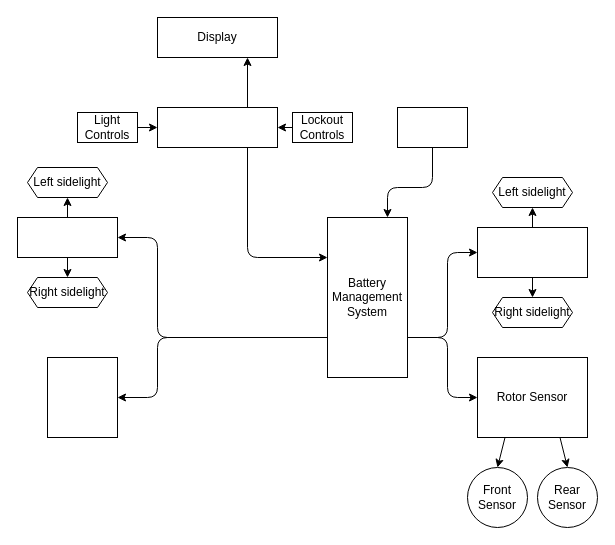
The diagram is 615 pixels wide and 545 high, and some of its shapes have lost their labels. Here are the shapes that lost their labels. From the top down, the box of each, then its label:
(156, 106, 278, 148): Body Computer Module
(396, 106, 468, 148): Generator
(16, 216, 118, 258): Front Light
(476, 226, 588, 278): Rear Light
(46, 356, 118, 438): Lockout Actuator
